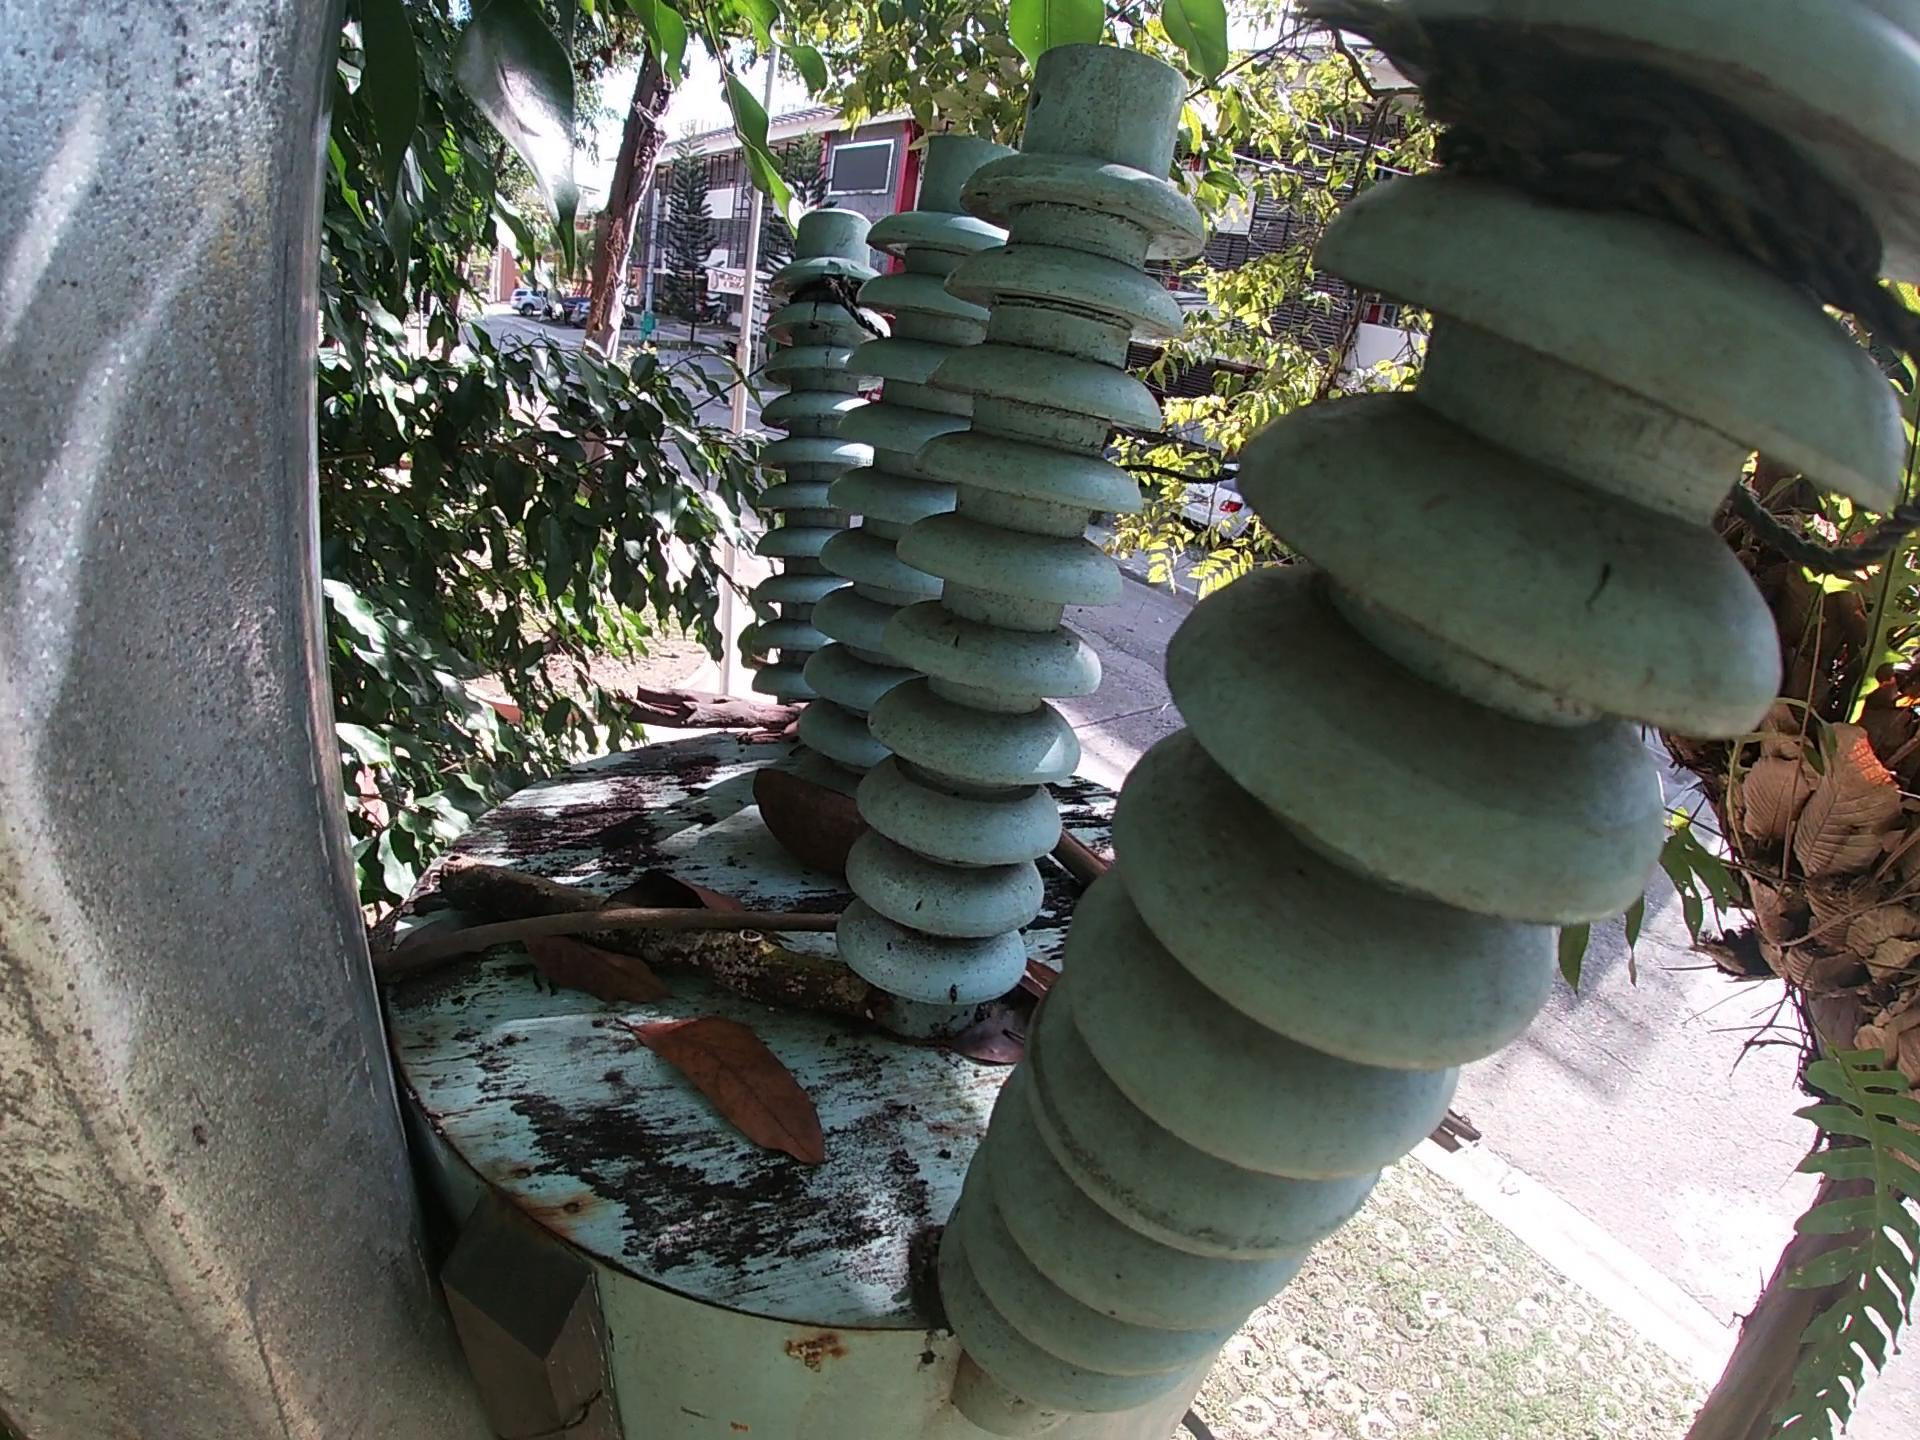leaf: (615, 1006, 836, 1172), (605, 871, 786, 945), (519, 926, 670, 1007), (931, 1006, 1042, 1068)
mahogany fruit: (751, 764, 868, 871), (1019, 957, 1064, 1006)
tree branch: (434, 865, 871, 1015), (360, 908, 847, 988), (612, 682, 797, 752), (1046, 821, 1108, 886)
